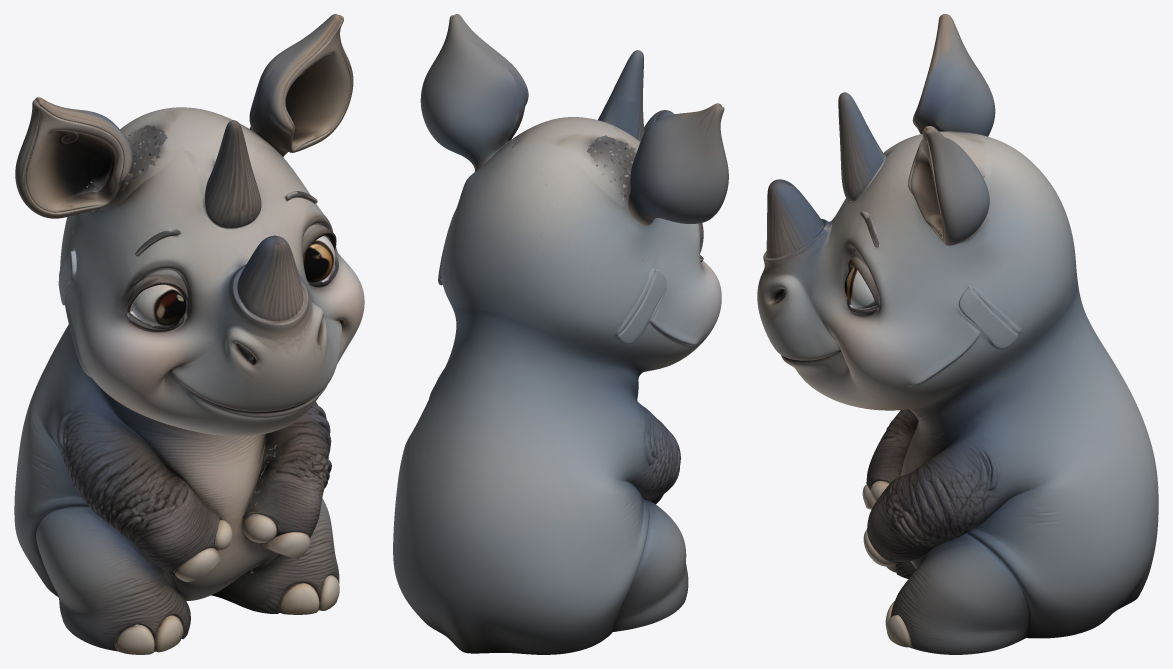
File: tiny_planet_friends_3d-animal-4055.high.glb
The picture shows the model from 3 angles, left to right: view 1: azimuth 30°, elevation 25°; view 2: azimuth 150°, elevation 25°; view 3: azimuth 270°, elevation 25°; orthographic projection. The views are drawn at different scales.
Parts seen in each view (by area): view 1: texture_pbr_v128; view 2: texture_pbr_v128; view 3: texture_pbr_v128.
Boxes of the visible parts, <box> form: texture_pbr_v128: <box>14,14,364,654</box>; texture_pbr_v128: <box>393,14,728,654</box>; texture_pbr_v128: <box>757,14,1158,654</box>.
Bounding box in the file's own units: 0.6181 × 1.02 × 0.7045.
Materials: 1 (1 with a texture image).
